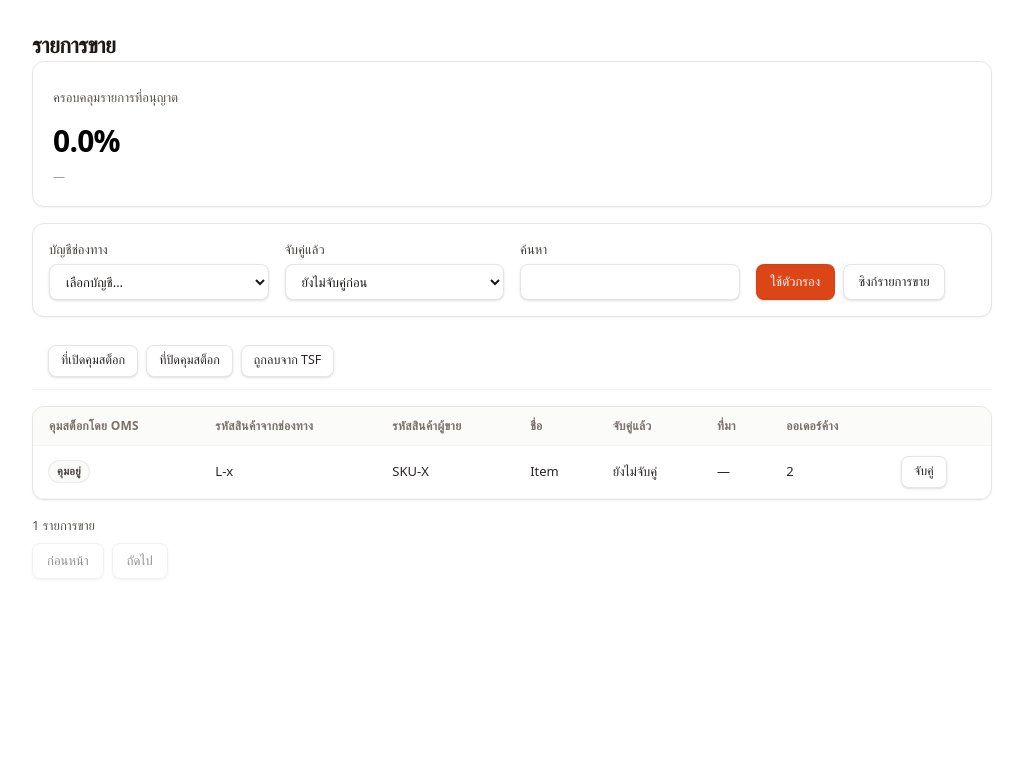
it: ListingsPage › shows re-evaluation summary after save for OWNER
The image size is (1024, 768).
Expected: the text "L-x" is shown, [199,445,376,498]
Step 1. Click the button "จับคู่" → (924, 472), box [901,456,947,488]
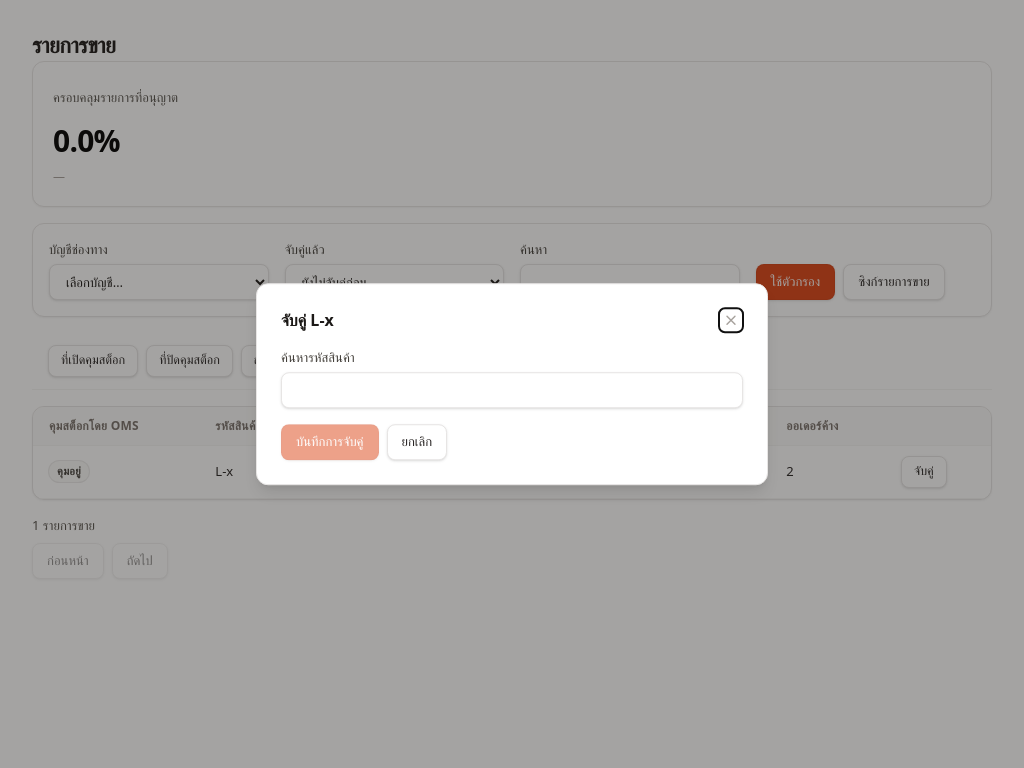
Step 2. Type "DEMO" into the field labelled "ค้นหารหัสสินค้า" → (512, 390), box [281,372,743,408]
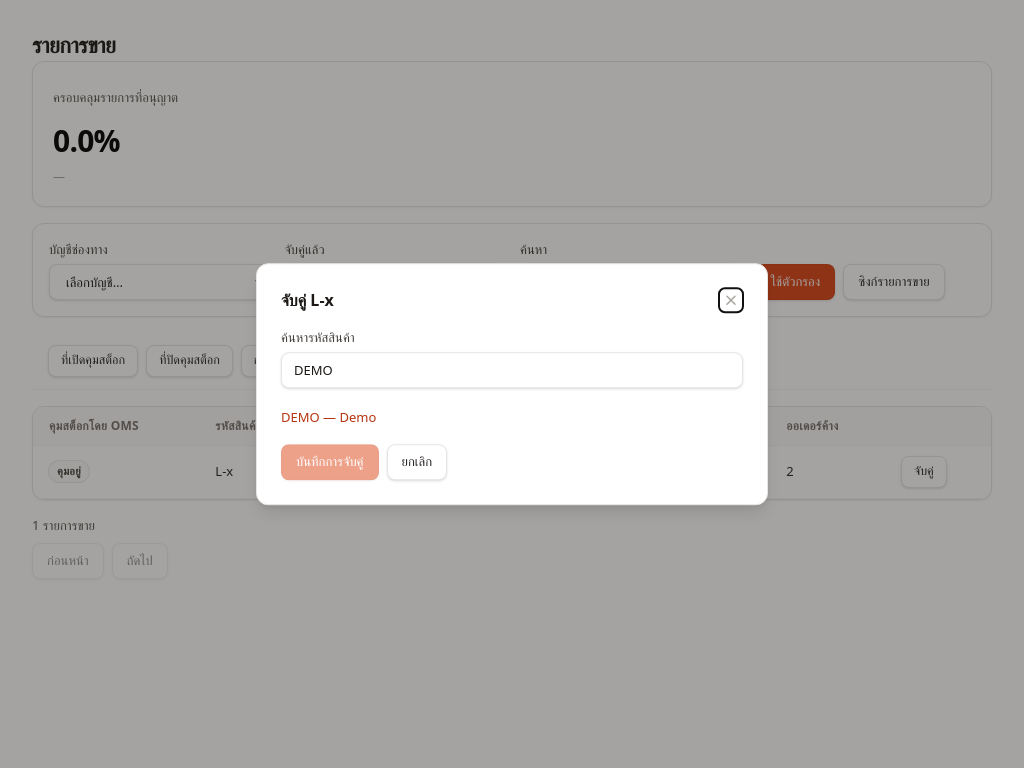
Now the button "DEMO — Demo" is shown
Step 3. Click the button "DEMO — Demo" → (329, 418), box [281,408,376,427]
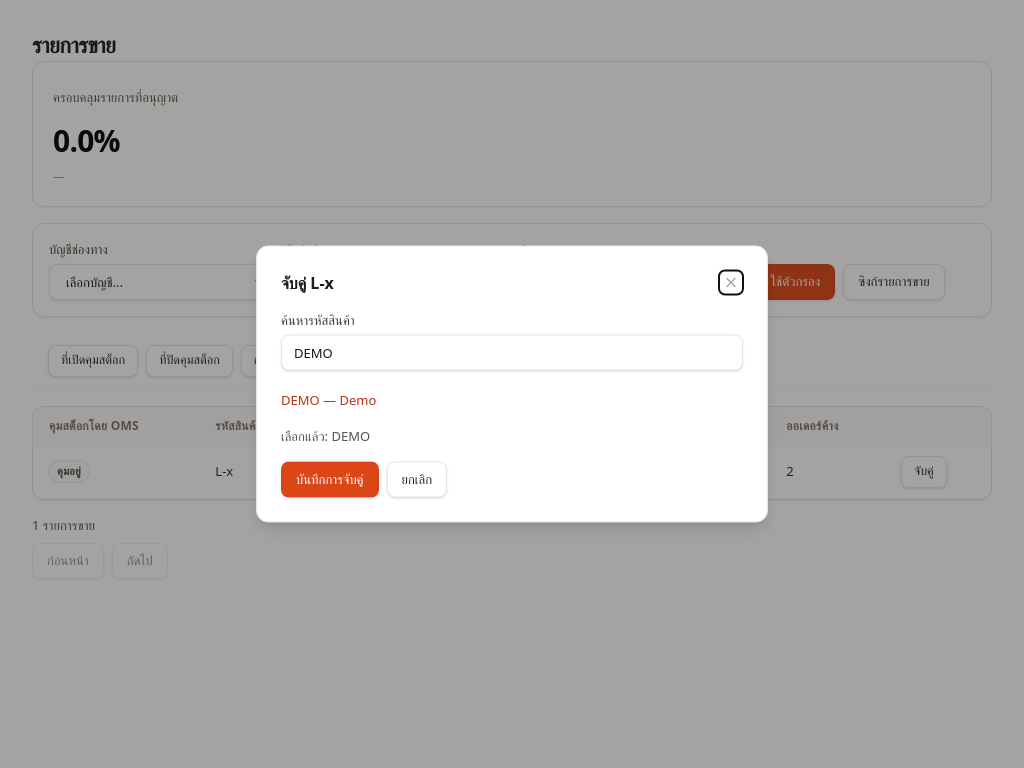
Step 4. Click the button "บันทึกการจับคู่" → (330, 480), box [281,462,378,498]
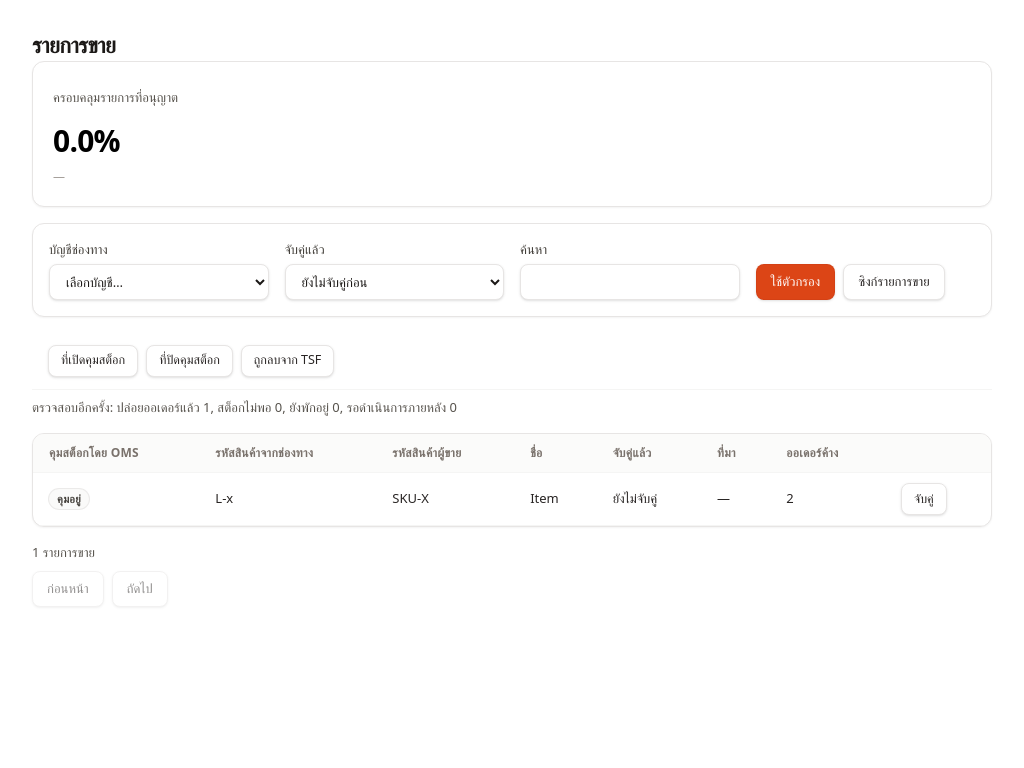
Now the text "ปล่อยออเดอร์แล้ว 1" is shown, box [32,398,457,416]
